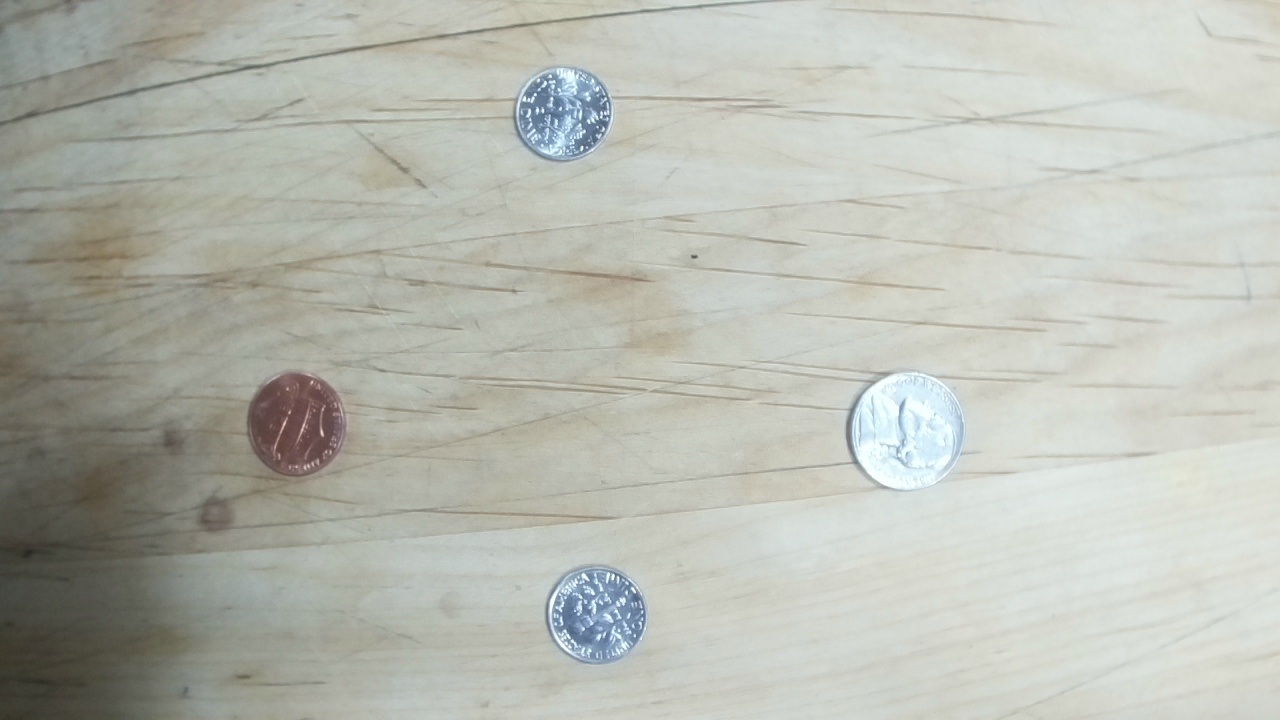dime: (547, 565, 649, 666), (515, 64, 614, 161)
nickel: (845, 370, 966, 494)
penny: (247, 372, 351, 479)
